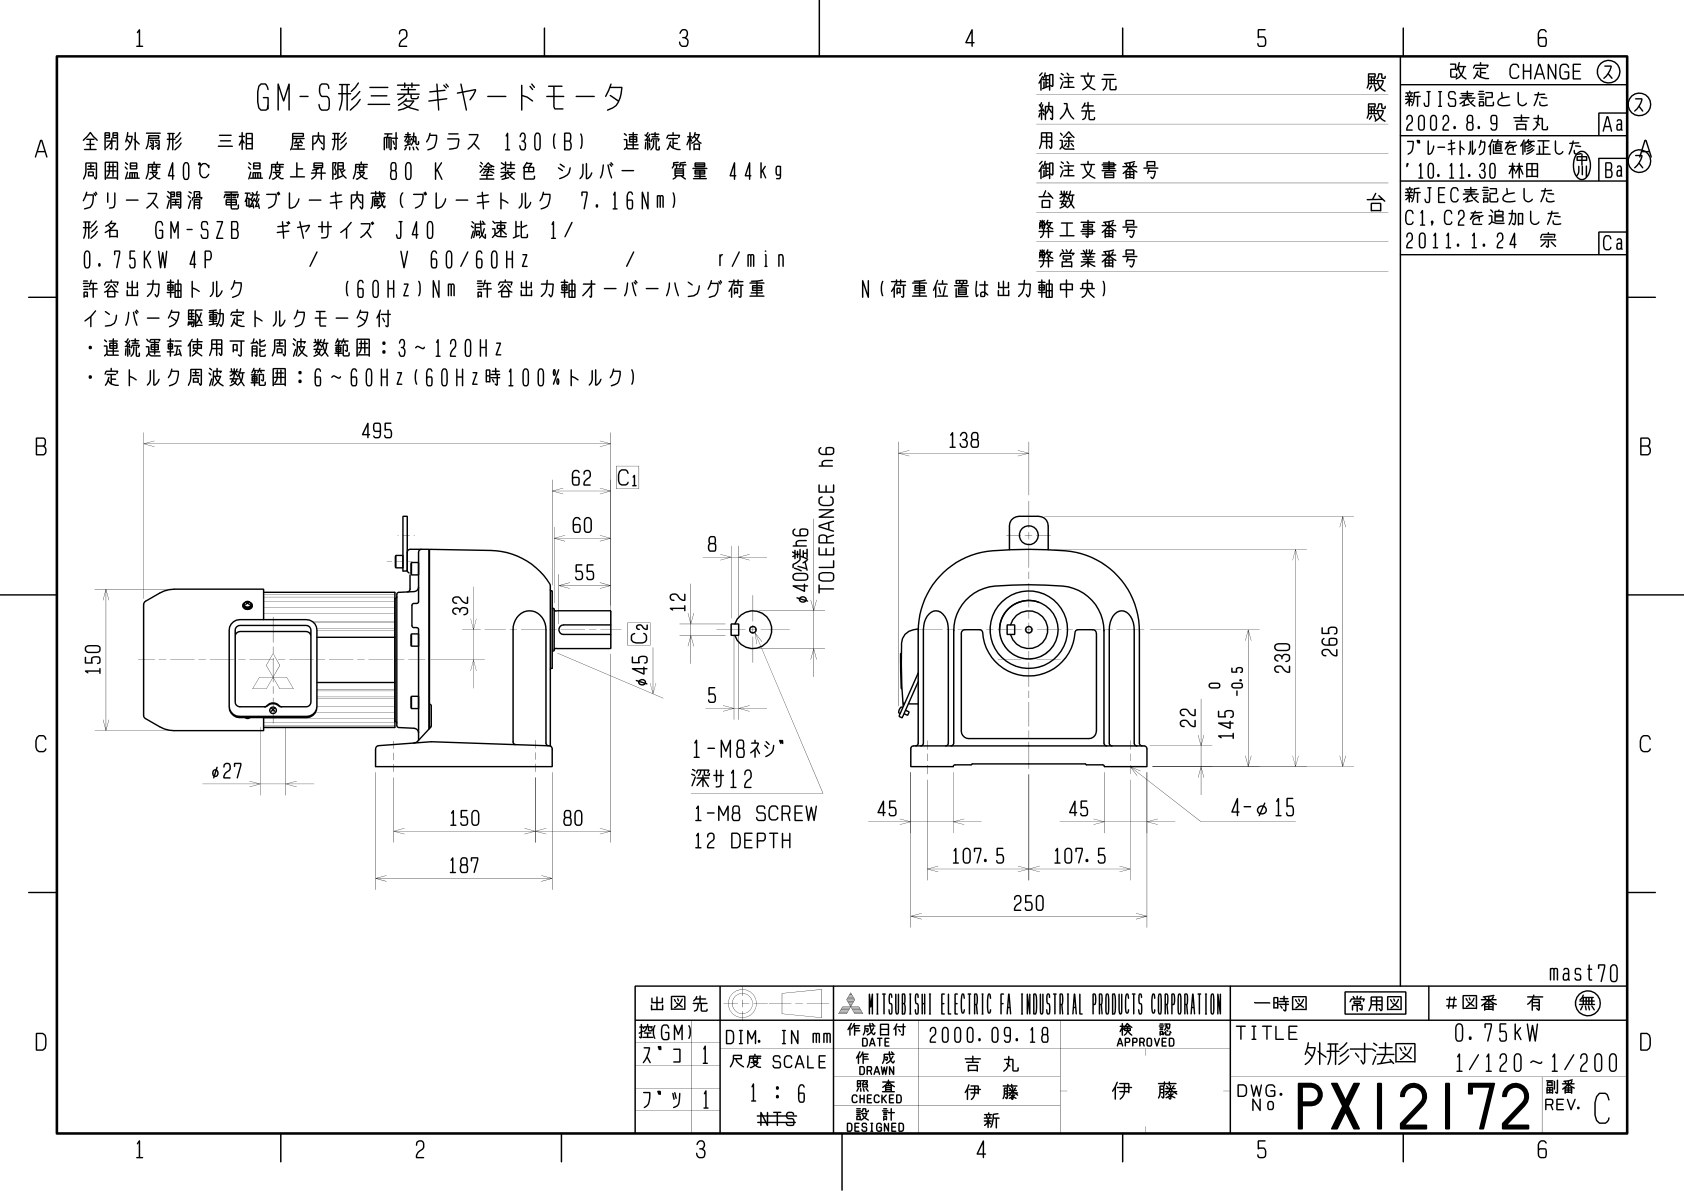GM_S_インバタ屋外＿三相_脚: (77, 384, 1389, 962)
